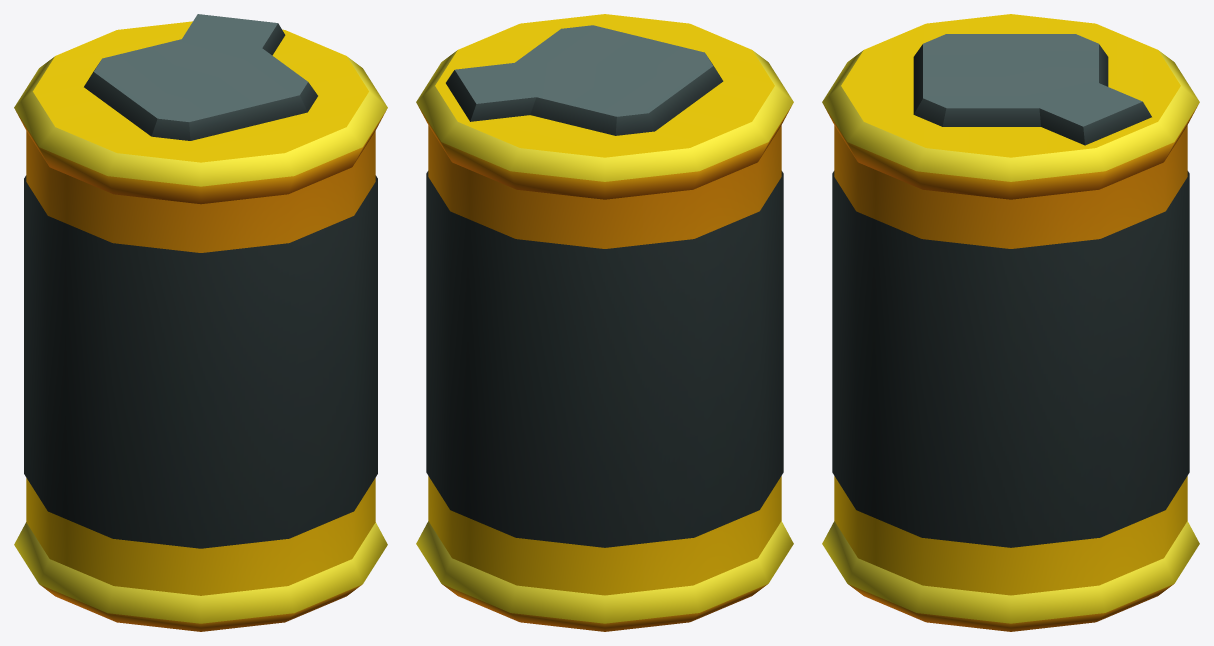
The model's file is Barrel_2A.fbx.
3 views of the same model, side by side, from view 1: azimuth 30°, elevation 25°; view 2: azimuth 150°, elevation 25°; view 3: azimuth 270°, elevation 25° (orthographic).
Parts seen in each view (by area): view 1: Barrel_2A; view 2: Barrel_2A; view 3: Barrel_2A.
Part boxes in pixels (x1=…): Barrel_2A: x1=14, y1=14, x2=387, y2=631; Barrel_2A: x1=416, y1=14, x2=793, y2=631; Barrel_2A: x1=822, y1=14, x2=1199, y2=631.
Size of the model in its own units: 0.8664 by 1.24 by 0.8664.
